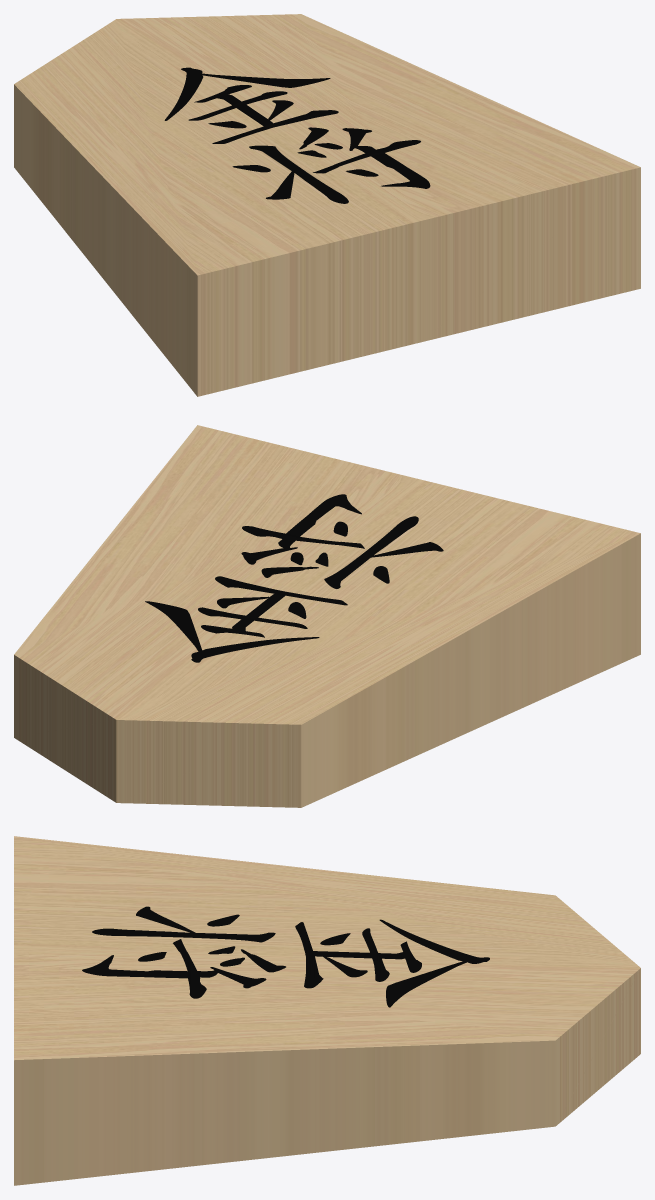
Rendered from kin.fbx.
3 renders of one model, top to bottom at view 1: azimuth 30°, elevation 25°; view 2: azimuth 150°, elevation 25°; view 3: azimuth 270°, elevation 25°, orthographic. The views are drawn at different scales.
Parts seen in each view (by area): view 1: kin.001; view 2: kin.001; view 3: kin.001.
Part boxes in pixels (x1,y1,x2,y2): kin.001: [14, 14, 640, 396]; kin.001: [14, 425, 640, 807]; kin.001: [14, 836, 640, 1185].
Size of the model in its own units: 421 by 110 by 498.
